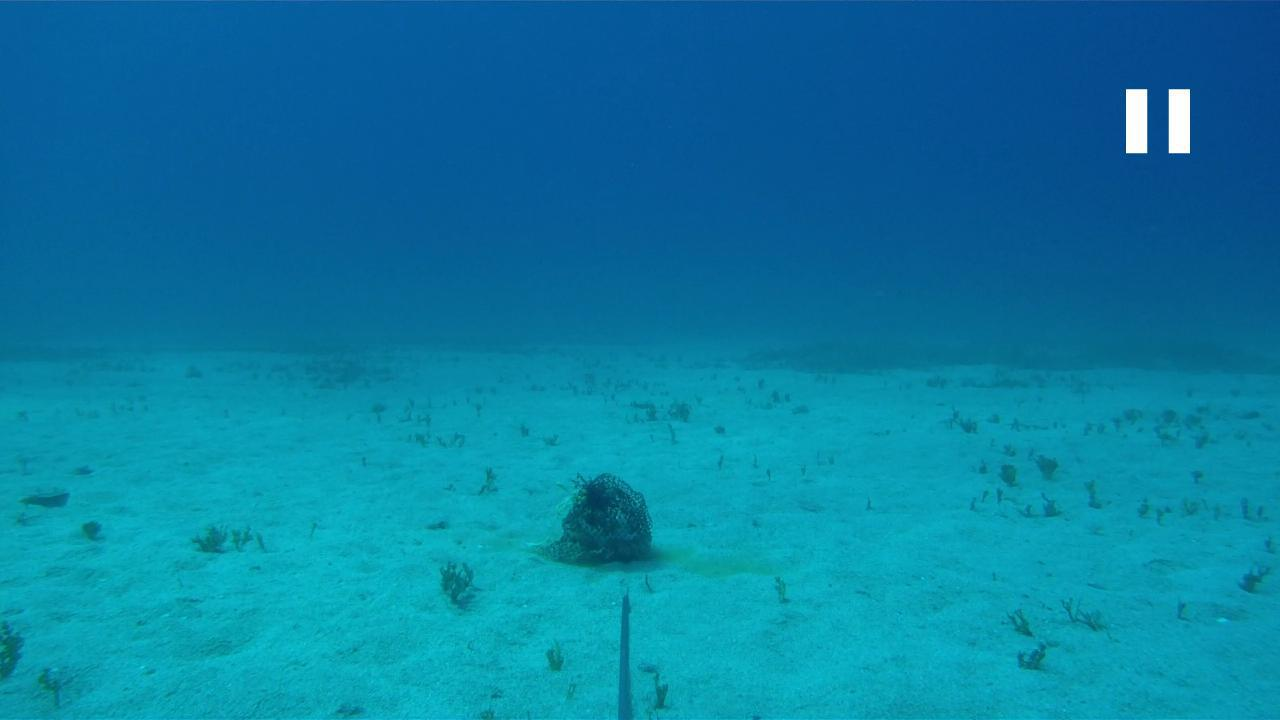bothus: (15, 477, 72, 506)
